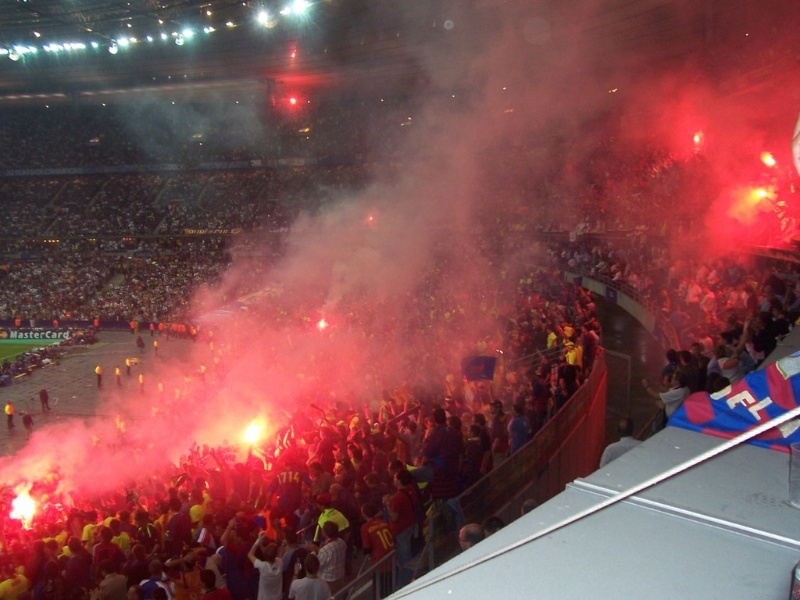person: (4, 518, 238, 597), (672, 254, 764, 320), (4, 262, 78, 314), (689, 324, 741, 384), (390, 468, 423, 562), (426, 404, 457, 500), (464, 393, 508, 456), (355, 501, 390, 579), (249, 527, 286, 600), (602, 231, 663, 275), (316, 519, 351, 594), (507, 284, 593, 314), (295, 536, 324, 600), (664, 345, 686, 404)
